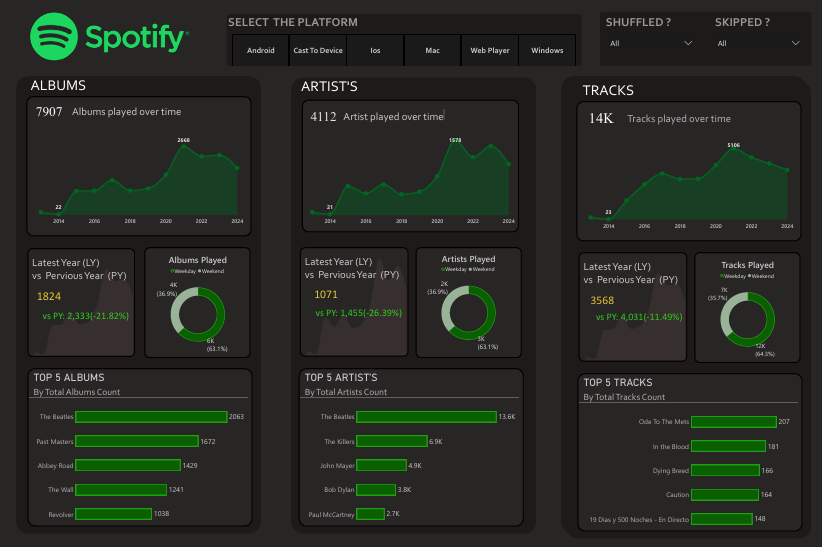

Layout of this report page (visuals, bound fields, positions):
{"tool":"powerbi","page":{"name":"OVERVIEW ","canvas":[3300,2200],"ordinal":0},"visuals":[{"type":"image","box":[85.3,0,713.9,300.8],"z":0,"group":"g26"},{"type":"shape","box":[65,305,980,1830],"z":1000,"group":"g26"},{"type":"shape","box":[2245,305,980,1830],"z":1000,"group":"g1"},{"type":"shape","box":[2255,315,980,1830],"z":1000,"group":"g22"},{"type":"shape","box":[2265,325,980,1830],"z":1000,"group":"g23"},{"type":"shape","box":[896.7,46.7,1420,208.3],"z":2000,"group":"g24"},{"type":"shape","box":[906.7,56.7,1420,208.3],"z":2000,"group":"g25"},{"type":"textbox","box":[65,305,336.7,80],"z":2000,"group":"g26"},{"type":"textbox","box":[2245,305,336.7,80],"z":2000,"group":"g1"},{"type":"textbox","box":[2255,315,336.7,80],"z":2000,"group":"g22"},{"type":"textbox","box":[2265,325,336.7,80],"z":2000,"group":"g23"},{"type":"shape","box":[1165,310,980,1825],"z":3000,"group":"g26"},{"type":"group","id":"g1","title":"Group 2","box":[2245,305,980,1830],"z":4000,"group":"g26"},{"type":"shape","box":[106,385,900,560],"z":4000,"group":"g20"},{"type":"shape","box":[1191,385,900,560],"z":4000,"group":"g21"},{"type":"shape","box":[2286,385,900,560],"z":4000,"group":"g13"},{"type":"shape","box":[2296,395,900,560],"z":4000,"group":"g14"},{"type":"shape","box":[2306,405,900,560],"z":4000,"group":"g15"},{"type":"textbox","box":[1149.4,309.8,336.7,76.3],"z":5000,"group":"g26"},{"type":"group","id":"g2","title":"Group 1","box":[2262,989,484,448],"z":5000,"group":"g1"},{"type":"group","id":"g3","title":"Group 1","box":[2272,999,484,448],"z":5000,"group":"g22"},{"type":"group","id":"g4","title":"Group 1","box":[2282,1009,484,448],"z":5000,"group":"g23"},{"type":"card","fields":{"Values":["Table.NO of Artists"]},"box":[1183,385,206,124],"z":6000,"group":"g21"},{"type":"card","fields":{"Values":["Table.NO of Albums"]},"box":[106.8,385.9,175,101.6],"z":6000,"group":"g20"},{"type":"card","fields":{"Values":["Table.NO of Tracks"]},"box":[2286.8,385.9,175,101.6],"z":6000,"group":"g13"},{"type":"card","fields":{"Values":["Table.NO of Tracks"]},"box":[2296.8,395.9,175,101.6],"z":6000,"group":"g14"},{"type":"card","fields":{"Values":["Table.NO of Tracks"]},"box":[2306.8,405.9,175,101.6],"z":6000,"group":"g15"},{"type":"group","id":"g5","title":"Group 1","box":[85,990,480,445],"z":6000,"group":"g26"},{"type":"group","id":"g6","title":"Group 3","box":[2290.2,1473.2,898,660],"z":6000,"group":"g1"},{"type":"group","id":"g7","title":"Group 3","box":[2300.2,1483.2,898,660],"z":6000,"group":"g22"},{"type":"group","id":"g8","title":"Group 3","box":[2310.2,1493.2,898,660],"z":6000,"group":"g23"},{"type":"textbox","box":[234.3,416.1,445,63.1],"z":7000,"group":"g20"},{"type":"textbox","box":[2414.3,416.1,445,63.1],"z":7000,"group":"g13"},{"type":"textbox","box":[1321,417,444,78],"z":7000,"group":"g21"},{"type":"textbox","box":[2424.3,426.1,445,63.1],"z":7000,"group":"g14"},{"type":"textbox","box":[2434.3,436.1,445,63.1],"z":7000,"group":"g15"},{"type":"shape","box":[578,989,424,442.9],"z":7000,"group":"g18"},{"type":"group","id":"g9","title":"Group 1","box":[1167,989,484,448],"z":7000,"group":"g26"},{"type":"shape","box":[1200.1,989,433.9,438.4],"z":7000,"group":"g9"},{"type":"shape","box":[1663,989,424,442.9],"z":7000,"group":"g19"},{"type":"shape","box":[2295.1,989,433.9,438.4],"z":7000,"group":"g2"},{"type":"shape","box":[2758,989,424,442.9],"z":7000,"group":"g10"},{"type":"group","id":"g10","title":"Group 4","box":[2758,989,424,442],"z":7000,"group":"g1"},{"type":"shape","box":[117.8,990,430.4,435.4],"z":7000,"group":"g5"},{"type":"shape","box":[2305.1,999,433.9,438.4],"z":7000,"group":"g3"},{"type":"group","id":"g11","title":"Group 4","box":[2768,999,424,442],"z":7000,"group":"g22"},{"type":"shape","box":[2768,999,424,442.9],"z":7000,"group":"g11"},{"type":"shape","box":[2315.1,1009,433.9,438.4],"z":7000,"group":"g4"},{"type":"group","id":"g12","title":"Group 4","box":[2778,1009,424,442],"z":7000,"group":"g23"},{"type":"shape","box":[2778,1009,424,442.9],"z":7000,"group":"g12"},{"type":"group","id":"g13","title":"Group 5","box":[2286,385,900,560],"z":8000,"group":"g1"},{"type":"group","id":"g14","title":"Group 5","box":[2296,395,900,560],"z":8000,"group":"g22"},{"type":"group","id":"g15","title":"Group 5","box":[2306,405,900,560],"z":8000,"group":"g23"},{"type":"areaChart","fields":{"Category":["Date.Year"],"Y":["Table.NO of Albums"]},"box":[124.3,528.7,865,389.8],"z":8000,"group":"g20"},{"type":"areaChart","fields":{"Category":["Date.Year"],"Y":["Table.NO of Artists"]},"box":[1209.3,528.7,865,389.8],"z":8000,"group":"g21"},{"type":"areaChart","fields":{"Category":["Date.Year"],"Y":["Table.NO of Tracks"]},"box":[2304.3,528.7,865,389.8],"z":8000,"group":"g13"},{"type":"areaChart","fields":{"Category":["Date.Year"],"Y":["Table.NO of Tracks"]},"box":[2314.3,538.7,865,389.8],"z":8000,"group":"g14"},{"type":"areaChart","fields":{"Category":["Date.Year"],"Y":["Table.NO of Tracks"]},"box":[2324.3,548.7,865,389.8],"z":8000,"group":"g15"},{"type":"areaChart","fields":{"Category":["Date.Year"],"Y":["Table.NO of Artists"]},"box":[1167,1006.1,485,430.9],"z":8000,"group":"g9"},{"type":"areaChart","fields":{"Category":["Date.Year"],"Y":["Table.NO of Albums"]},"box":[2262,1006.1,485,430.9],"z":8000,"group":"g2"},{"type":"areaChart","fields":{"Category":["Date.Year"],"Y":["Table.NO of Albums"]},"box":[85,1007,481,428],"z":8000,"group":"g5"},{"type":"areaChart","fields":{"Category":["Date.Year"],"Y":["Table.NO of Albums"]},"box":[2272,1016.1,485,430.9],"z":8000,"group":"g3"},{"type":"areaChart","fields":{"Category":["Date.Year"],"Y":["Table.NO of Albums"]},"box":[2282,1026.1,485,430.9],"z":8000,"group":"g4"},{"type":"group","id":"g16","title":"Group 3","box":[110.2,1473.2,898,660],"z":8000,"group":"g26"},{"type":"donutChart","title":"NO of Artists","fields":{"Category":["Date.Weekend_weekday"],"Y":["Table.NO of Artists"]},"box":[1673,996.5,402.5,427.5],"z":9000,"group":"g19"},{"type":"donutChart","title":"NO of Albums ","fields":{"Category":["Date.Weekend_weekday"],"Y":["Table.NO of Albums"]},"box":[589.8,1003.2,402.8,427.9],"z":9000,"group":"g18"},{"type":"donutChart","title":"NO of Tracks","fields":{"Category":["Date.Weekend_weekday"],"Y":["Table.NO of Tracks"]},"box":[2769.8,1003.2,402.8,427.9],"z":9000,"group":"g10"},{"type":"donutChart","title":"NO of Tracks","fields":{"Category":["Date.Weekend_weekday"],"Y":["Table.NO of Tracks"]},"box":[2779.8,1013.2,402.8,427.9],"z":9000,"group":"g11"},{"type":"textbox","box":[1218.5,1020,426.7,163.7],"z":9000,"group":"g9"},{"type":"textbox","box":[2313.5,1020,426.7,163.7],"z":9000,"group":"g2"},{"type":"textbox","box":[136.1,1020.8,423.2,162.6],"z":9000,"group":"g5"},{"type":"donutChart","title":"NO of Tracks","fields":{"Category":["Date.Weekend_weekday"],"Y":["Table.NO of Tracks"]},"box":[2789.8,1023.2,402.8,427.9],"z":9000,"group":"g12"},{"type":"textbox","box":[2323.5,1030,426.7,163.7],"z":9000,"group":"g3"},{"type":"textbox","box":[2333.5,1040,426.7,163.7],"z":9000,"group":"g4"},{"type":"group","id":"g17","title":"Group 3","box":[1195.2,1473.2,898,660],"z":9000,"group":"g26"},{"type":"group","id":"g18","title":"Group 4","box":[578,989,424,442],"z":10000,"group":"g26"},{"type":"card","fields":{"Values":["Table.Latest year artist"]},"box":[1219.4,1087.1,168.8,121],"z":10000,"group":"g9"},{"type":"card","fields":{"Values":["Table.Latest year tracks"]},"box":[2314.4,1087.1,168.8,121],"z":10000,"group":"g2"},{"type":"card","fields":{"Values":["Table.Current year Albums"]},"box":[136.9,1087.5,167.4,120.2],"z":10000,"group":"g5"},{"type":"card","fields":{"Values":["Table.Latest year tracks"]},"box":[2324.4,1097.1,168.8,121],"z":10000,"group":"g3"},{"type":"card","fields":{"Values":["Table.Latest year tracks"]},"box":[2334.4,1107.1,168.8,121],"z":10000,"group":"g4"},{"type":"shape","box":[110.2,1473.2,900,632.5],"z":10000,"group":"g16"},{"type":"shape","box":[1195.2,1473.2,900,632.5],"z":10000,"group":"g17"},{"type":"shape","box":[2290.2,1473.2,900,632.5],"z":10000,"group":"g6"},{"type":"shape","box":[2300.2,1483.2,900,632.5],"z":10000,"group":"g7"},{"type":"shape","box":[2310.2,1493.2,900,632.5],"z":10000,"group":"g8"},{"type":"group","id":"g19","title":"Group 4","box":[1663,989,424,442.9],"z":11000,"group":"g26"},{"type":"card","fields":{"Values":["Table.PY and YoY KPIs"]},"box":[114,1146.6,426.5,122.2],"z":11000,"group":"g5"},{"type":"card","fields":{"Values":["Table.PY and YoY artist Kpis"]},"box":[1196.2,1146.7,430.1,123],"z":11000,"group":"g9"},{"type":"card","fields":{"Values":["Table.PY ans YoY tracks KPI"]},"box":[2291.2,1146.7,430.1,123],"z":11000,"group":"g2"},{"type":"card","fields":{"Values":["Table.PY ans YoY tracks KPI"]},"box":[2301.2,1156.7,430.1,123],"z":11000,"group":"g3"},{"type":"card","fields":{"Values":["Table.PY ans YoY tracks KPI"]},"box":[2311.2,1166.7,430.1,123],"z":11000,"group":"g4"},{"type":"clusteredBarChart","title":"TOP 5 ALBUMS","fields":{"Category":["spotify_history.album_name"],"Y":["CountNonNull(spotify_history.album_name)"]},"box":[117.7,1473.2,875,662.5],"z":11000,"group":"g16"},{"type":"clusteredBarChart","title":"TOP 5 ARTIST''S ","fields":{"Category":["spotify_history.artist_name"],"Y":["CountNonNull(spotify_history.artist_name)"]},"box":[1202.7,1473.2,875,662.5],"z":11000,"group":"g17"},{"type":"clusteredBarChart","title":"TOP 5 TRACKS","fields":{"Category":["spotify_history.track_name"],"Y":["CountNonNull(spotify_history.track_name)"]},"box":[2297.7,1473.2,875,662.5],"z":11000,"group":"g6"},{"type":"clusteredBarChart","title":"TOP 5 TRACKS","fields":{"Category":["spotify_history.track_name"],"Y":["CountNonNull(spotify_history.track_name)"]},"box":[2307.7,1483.2,875,662.5],"z":11000,"group":"g7"},{"type":"clusteredBarChart","title":"TOP 5 TRACKS","fields":{"Category":["spotify_history.track_name"],"Y":["CountNonNull(spotify_history.track_name)"]},"box":[2317.7,1493.2,875,662.5],"z":11000,"group":"g8"},{"type":"group","id":"g20","title":"Group 5","box":[106,385,900,560],"z":12000,"group":"g26"},{"type":"group","id":"g21","title":"Group 5","box":[1183,385,908,560],"z":13000,"group":"g26"},{"type":"group","id":"g22","title":"Group 2","box":[2255,315,980,1830],"z":14000,"group":"g26"},{"type":"slicer","fields":{"Values":["spotify_history.platform"]},"box":[898.3,124.4,1413.7,132.3],"z":15000,"group":"g24"},{"type":"slicer","fields":{"Values":["spotify_history.platform"]},"box":[908.3,134.4,1413.7,132.3],"z":15000,"group":"g25"},{"type":"group","id":"g23","title":"Group 2","box":[2265,325,980,1830],"z":15000,"group":"g26"},{"type":"group","id":"g24","title":"Group 6","box":[896.7,46.7,1420,210],"z":16000,"group":"g26"},{"type":"shape","box":[2400,46.7,846.7,216.7],"z":17000,"group":"g26"},{"type":"textbox","box":[898.3,48.4,526.6,76.1],"z":18000,"group":"g24"},{"type":"textbox","box":[908.3,58.4,526.6,76.1],"z":18000,"group":"g25"},{"type":"slicer","fields":{"Values":["spotify_history.shuffle"]},"box":[2430,143.3,350,90],"z":18000,"group":"g26"},{"type":"slicer","fields":{"Values":["spotify_history.skipped"]},"box":[2860,143.3,350,90],"z":19000,"group":"g26"},{"type":"group","id":"g25","title":"Group 6","box":[906.7,56.7,1420,210],"z":20000,"group":"g26"},{"type":"textbox","box":[2423.3,56.7,343.3,76.7],"z":21000,"group":"g26"},{"type":"textbox","box":[2860,56.7,306.7,76.7],"z":22000,"group":"g26"},{"type":"actionButton","box":[0,0,100,40],"z":22001,"group":"g26"},{"type":"group","id":"g26","title":"Group 7","box":[0,0,3246.7,2155],"z":22002}]}

Visuals, with their boxes in screenshot pixels (x1, y1, x2, y2), scaled from the page's 3300x2200 canvas onto the 822x547 screenshot:
image: select_region(21, 0, 199, 75)
shape: select_region(16, 76, 260, 531)
shape: select_region(559, 76, 803, 531)
shape: select_region(562, 78, 806, 533)
shape: select_region(564, 81, 808, 536)
shape: select_region(223, 12, 577, 63)
shape: select_region(226, 14, 580, 66)
textbox: select_region(16, 76, 100, 96)
textbox: select_region(559, 76, 643, 96)
textbox: select_region(562, 78, 646, 98)
textbox: select_region(564, 81, 648, 101)
shape: select_region(290, 77, 534, 531)
"Group 2" group: select_region(559, 76, 803, 531)
shape: select_region(26, 96, 251, 235)
shape: select_region(297, 96, 521, 235)
shape: select_region(569, 96, 794, 235)
shape: select_region(572, 98, 796, 237)
shape: select_region(574, 101, 799, 240)
textbox: select_region(286, 77, 370, 96)
"Group 1" group: select_region(563, 246, 684, 357)
"Group 1" group: select_region(566, 248, 686, 360)
"Group 1" group: select_region(568, 251, 689, 362)
card - Table.NO of Artists: select_region(295, 96, 346, 127)
card - Table.NO of Albums: select_region(27, 96, 70, 121)
card - Table.NO of Tracks: select_region(570, 96, 613, 121)
card - Table.NO of Tracks: select_region(572, 98, 616, 124)
card - Table.NO of Tracks: select_region(575, 101, 618, 126)
"Group 1" group: select_region(21, 246, 141, 357)
"Group 3" group: select_region(570, 366, 794, 530)
"Group 3" group: select_region(573, 369, 797, 533)
"Group 3" group: select_region(575, 371, 799, 535)
textbox: select_region(58, 103, 169, 119)
textbox: select_region(601, 103, 712, 119)
textbox: select_region(329, 104, 440, 123)
textbox: select_region(604, 106, 715, 122)
textbox: select_region(606, 108, 717, 124)
shape: select_region(144, 246, 250, 356)
"Group 1" group: select_region(291, 246, 411, 357)
shape: select_region(299, 246, 407, 355)
shape: select_region(414, 246, 520, 356)
shape: select_region(572, 246, 680, 355)
shape: select_region(687, 246, 793, 356)
"Group 4" group: select_region(687, 246, 793, 356)
shape: select_region(29, 246, 137, 354)
shape: select_region(574, 248, 682, 357)
"Group 4" group: select_region(689, 248, 795, 358)
shape: select_region(689, 248, 795, 359)
shape: select_region(577, 251, 685, 360)
"Group 4" group: select_region(692, 251, 798, 361)
shape: select_region(692, 251, 798, 361)
"Group 5" group: select_region(569, 96, 794, 235)
"Group 5" group: select_region(572, 98, 796, 237)
"Group 5" group: select_region(574, 101, 799, 240)
areaChart - Date.Year x Table.NO of Albums: select_region(31, 131, 246, 228)
areaChart - Date.Year x Table.NO of Artists: select_region(301, 131, 517, 228)
areaChart - Date.Year x Table.NO of Tracks: select_region(574, 131, 789, 228)
areaChart - Date.Year x Table.NO of Tracks: select_region(576, 134, 792, 231)
areaChart - Date.Year x Table.NO of Tracks: select_region(579, 136, 794, 233)
areaChart - Date.Year x Table.NO of Artists: select_region(291, 250, 411, 357)
areaChart - Date.Year x Table.NO of Albums: select_region(563, 250, 684, 357)
areaChart - Date.Year x Table.NO of Albums: select_region(21, 250, 141, 357)
areaChart - Date.Year x Table.NO of Albums: select_region(566, 253, 687, 360)
areaChart - Date.Year x Table.NO of Albums: select_region(568, 255, 689, 362)
"Group 3" group: select_region(27, 366, 251, 530)
"NO of Artists" donutChart: select_region(417, 248, 517, 354)
"NO of Albums " donutChart: select_region(147, 249, 247, 356)
"NO of Tracks" donutChart: select_region(690, 249, 790, 356)
"NO of Tracks" donutChart: select_region(692, 252, 793, 358)
textbox: select_region(304, 254, 410, 294)
textbox: select_region(576, 254, 683, 294)
textbox: select_region(34, 254, 139, 294)
"NO of Tracks" donutChart: select_region(695, 254, 795, 361)
textbox: select_region(579, 256, 685, 297)
textbox: select_region(581, 259, 688, 299)
"Group 3" group: select_region(298, 366, 521, 530)
"Group 4" group: select_region(144, 246, 250, 356)
card - Table.Latest year artist: select_region(304, 270, 346, 300)
card - Table.Latest year tracks: select_region(576, 270, 619, 300)
card - Table.Current year Albums: select_region(34, 270, 76, 300)
card - Table.Latest year tracks: select_region(579, 273, 621, 303)
card - Table.Latest year tracks: select_region(581, 275, 624, 305)
shape: select_region(27, 366, 252, 524)
shape: select_region(298, 366, 522, 524)
shape: select_region(570, 366, 795, 524)
shape: select_region(573, 369, 797, 526)
shape: select_region(575, 371, 800, 529)
"Group 4" group: select_region(414, 246, 520, 356)
card - Table.PY and YoY KPIs: select_region(28, 285, 135, 315)
card - Table.PY and YoY artist Kpis: select_region(298, 285, 405, 316)
card - Table.PY ans YoY tracks KPI: select_region(571, 285, 678, 316)
card - Table.PY ans YoY tracks KPI: select_region(573, 288, 680, 318)
card - Table.PY ans YoY tracks KPI: select_region(576, 290, 683, 321)
"TOP 5 ALBUMS" clusteredBarChart: select_region(29, 366, 247, 531)
"TOP 5 ARTIST''S " clusteredBarChart: select_region(300, 366, 518, 531)
"TOP 5 TRACKS" clusteredBarChart: select_region(572, 366, 790, 531)
"TOP 5 TRACKS" clusteredBarChart: select_region(575, 369, 793, 533)
"TOP 5 TRACKS" clusteredBarChart: select_region(577, 371, 795, 536)
"Group 5" group: select_region(26, 96, 251, 235)
"Group 5" group: select_region(295, 96, 521, 235)
"Group 2" group: select_region(562, 78, 806, 533)
slicer - spotify_history.platform: select_region(224, 31, 576, 64)
slicer - spotify_history.platform: select_region(226, 33, 578, 66)
"Group 2" group: select_region(564, 81, 808, 536)
"Group 6" group: select_region(223, 12, 577, 64)
shape: select_region(598, 12, 809, 65)
textbox: select_region(224, 12, 355, 31)
textbox: select_region(226, 15, 357, 33)
slicer - spotify_history.shuffle: select_region(605, 36, 692, 58)
slicer - spotify_history.skipped: select_region(712, 36, 800, 58)
"Group 6" group: select_region(226, 14, 580, 66)
textbox: select_region(604, 14, 689, 33)
textbox: select_region(712, 14, 789, 33)
actionButton: select_region(0, 0, 25, 10)
"Group 7" group: select_region(0, 0, 809, 536)
